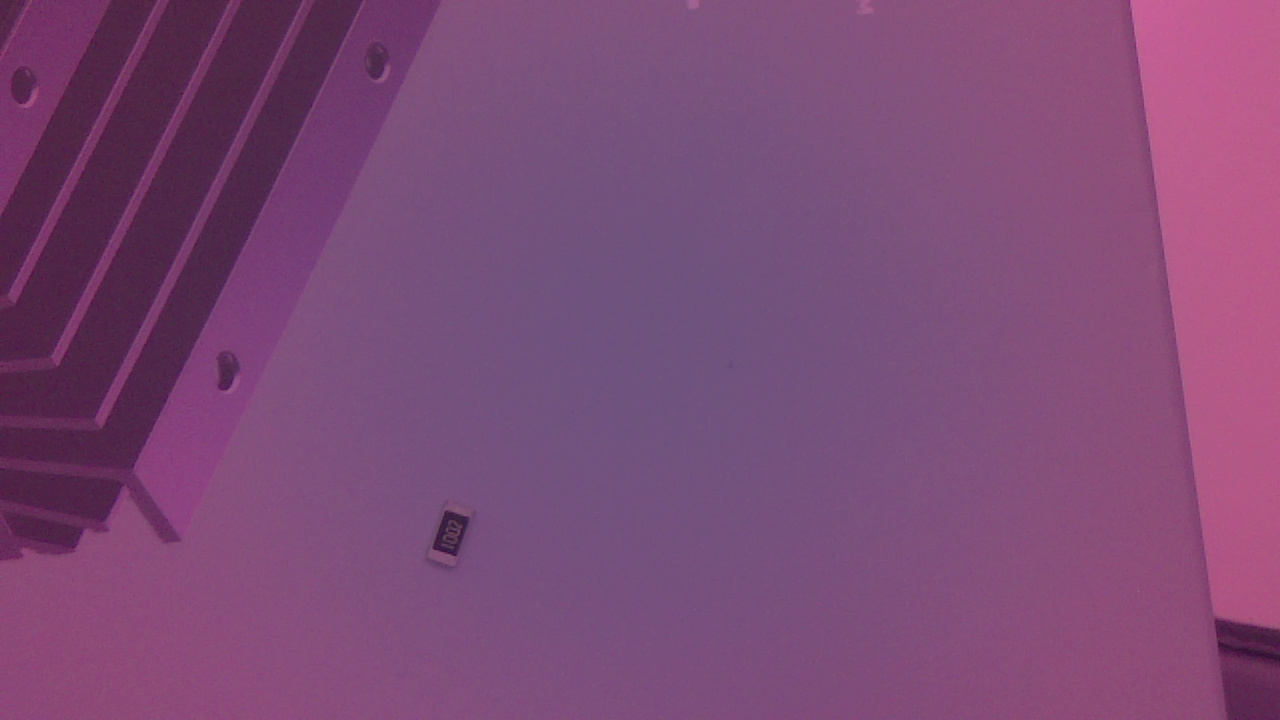Resistor: (418, 502, 491, 576)
